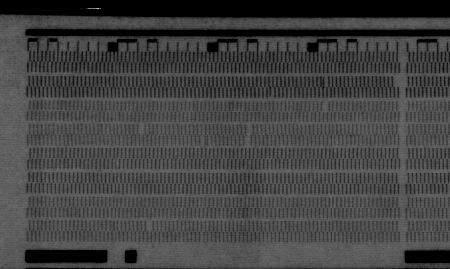Broken hole: (242, 124, 256, 148), (136, 123, 148, 136), (320, 100, 332, 113), (391, 74, 402, 88), (144, 219, 155, 231)
Oblique printing: (319, 74, 330, 88), (199, 136, 210, 147)
